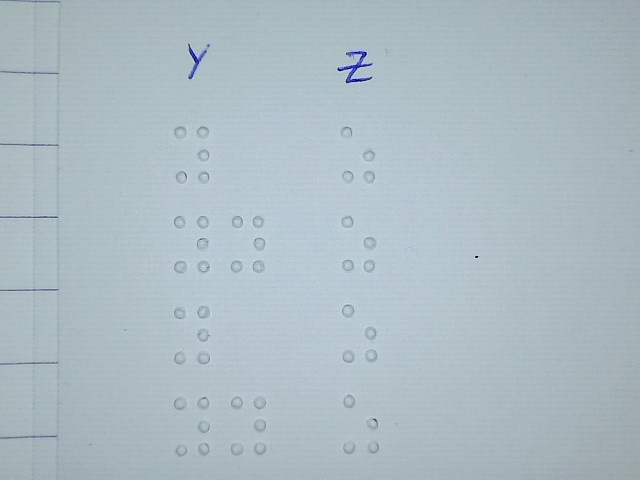Y: (173, 123, 211, 185), (229, 213, 267, 275), (173, 304, 211, 366), (230, 394, 268, 456), (173, 394, 211, 456)
Z: (339, 123, 377, 185), (340, 212, 378, 274), (340, 302, 378, 364), (342, 393, 380, 455)
